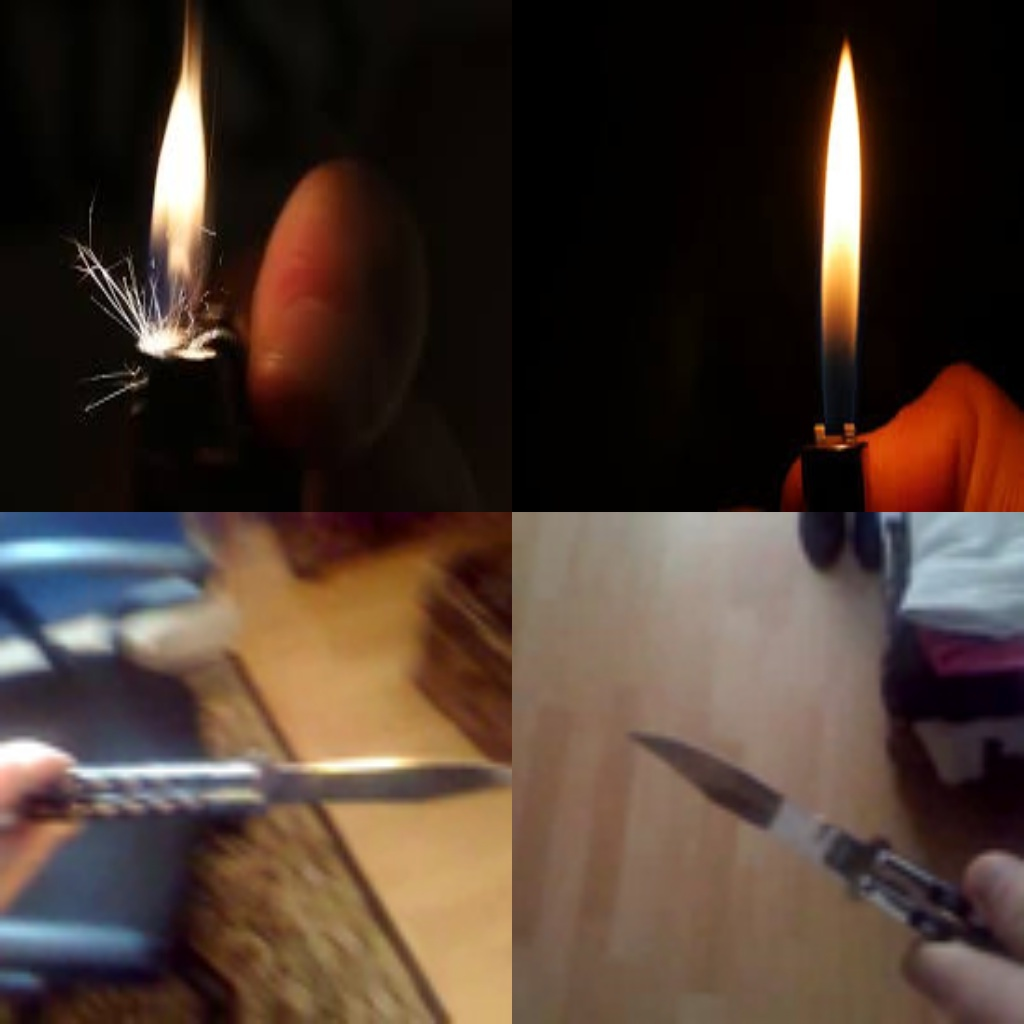fire: (148, 49, 211, 357), (821, 36, 864, 433)
